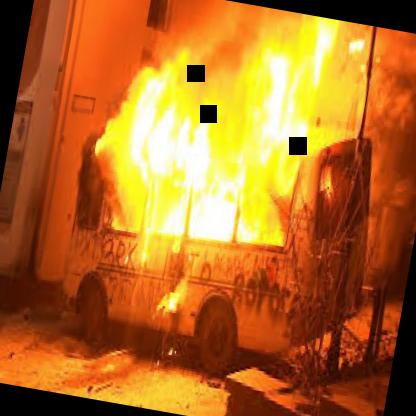fire: (43, 0, 362, 335)
